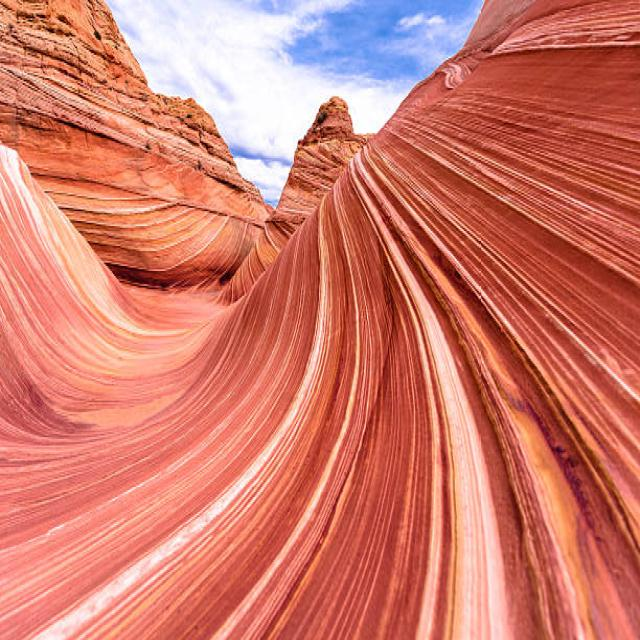Sedimentary: (1, 2, 640, 638)
